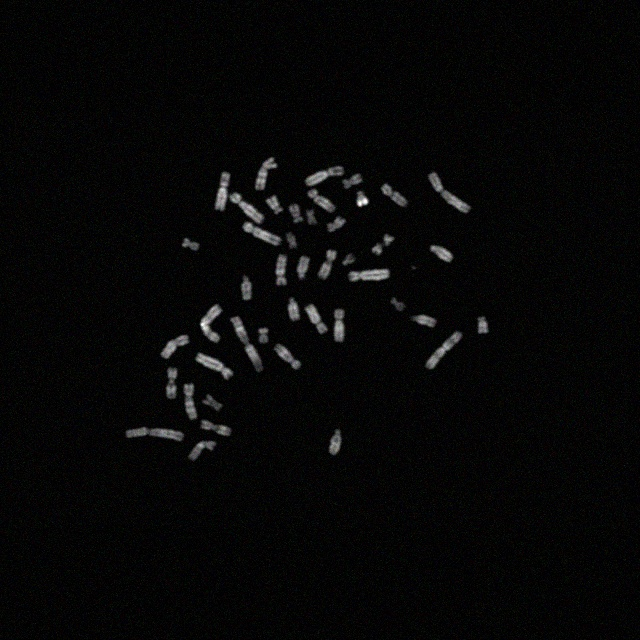chromosome: (230, 316, 264, 372), (428, 170, 469, 212), (426, 330, 462, 370), (229, 192, 263, 224), (195, 352, 233, 380), (242, 222, 282, 246), (200, 303, 222, 343), (304, 166, 344, 187), (255, 156, 278, 192), (126, 428, 184, 442), (380, 182, 408, 208), (160, 334, 188, 360), (274, 344, 300, 371), (307, 189, 335, 213), (188, 440, 218, 462), (214, 172, 230, 212), (306, 304, 326, 334), (318, 248, 336, 280), (348, 268, 389, 282), (184, 383, 198, 419), (201, 420, 231, 436), (274, 254, 288, 286), (328, 428, 342, 457), (166, 367, 178, 399), (430, 245, 452, 262), (266, 195, 284, 215), (326, 216, 346, 234), (202, 394, 222, 412), (334, 308, 344, 342), (412, 314, 436, 328), (288, 296, 300, 322), (296, 256, 310, 278), (288, 204, 304, 223), (342, 174, 362, 188), (242, 276, 252, 302), (341, 252, 357, 268), (356, 190, 368, 208), (286, 232, 298, 250), (181, 239, 199, 251), (391, 297, 405, 311), (306, 210, 318, 226), (478, 316, 488, 334), (384, 233, 394, 247), (259, 329, 269, 343), (372, 242, 382, 254)
